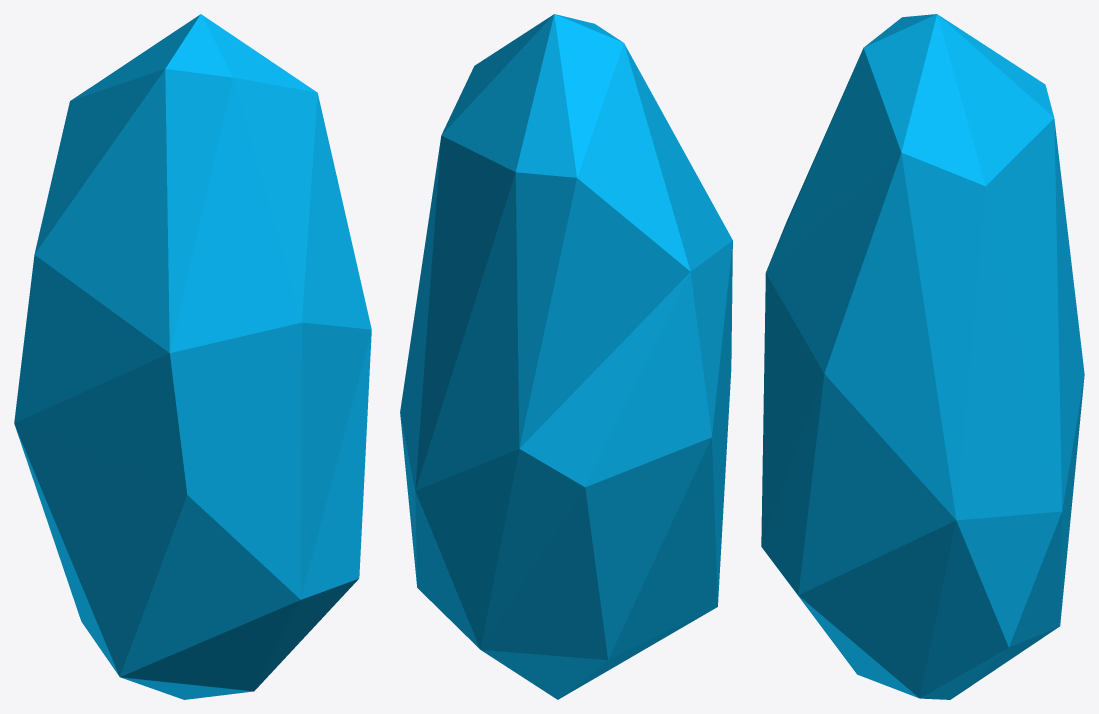
The model's file is Crystal_001.fbx.
3 renders of one model, left to right at view 1: azimuth 30°, elevation 25°; view 2: azimuth 150°, elevation 25°; view 3: azimuth 270°, elevation 25°, orthographic.
Parts seen in each view (by area): view 1: Crystal.001; view 2: Crystal.001; view 3: Crystal.001.
Boxes of the visible parts, <box> form: Crystal.001: <box>14,14,371,699</box>; Crystal.001: <box>400,14,732,699</box>; Crystal.001: <box>761,14,1084,699</box>.
Size of the model in its own units: 198 by 408 by 173.
